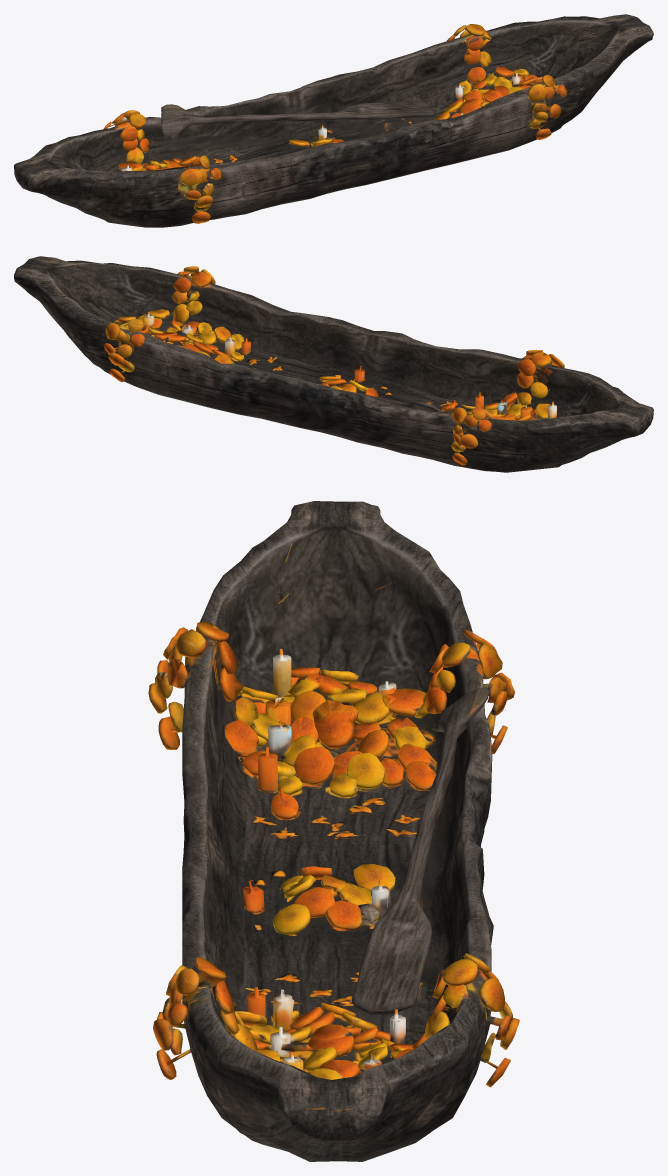
The model's file is canoa.obj.
3 renders of one model, top to bottom at view 1: azimuth 30°, elevation 25°; view 2: azimuth 150°, elevation 25°; view 3: azimuth 270°, elevation 25°, orthographic. The views are drawn at different scales.
Parts seen in each view (by area): view 1: Meshy_AI_Marigold_Offering_Can_1018182243_texture; view 2: Meshy_AI_Marigold_Offering_Can_1018182243_texture; view 3: Meshy_AI_Marigold_Offering_Can_1018182243_texture.
Part boxes in pixels (x1=…): Meshy_AI_Marigold_Offering_Can_1018182243_texture: x1=14, y1=14, x2=653, y2=227; Meshy_AI_Marigold_Offering_Can_1018182243_texture: x1=14, y1=256, x2=653, y2=472; Meshy_AI_Marigold_Offering_Can_1018182243_texture: x1=148, y1=501, x2=519, y2=1161.
Bounding box in the file's own units: 0.9541 × 0.1045 × 0.2471.
1 material, 1 textured.
